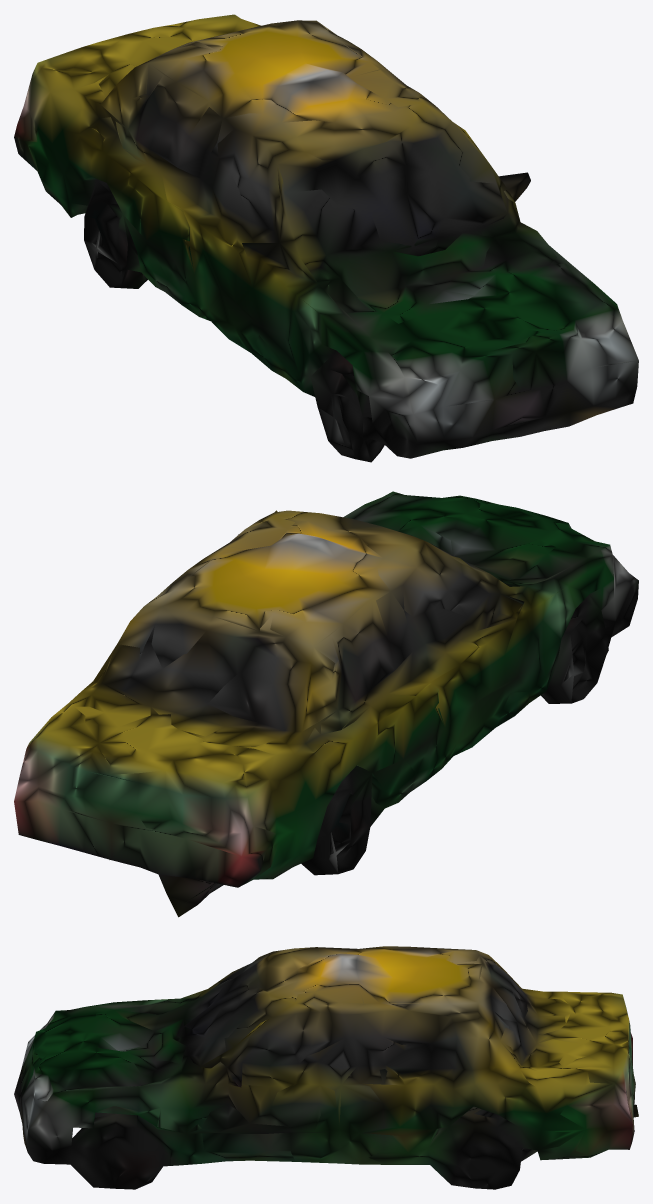
File: city_taxi.1.glb
The picture shows the model from 3 angles, top to bottom: view 1: azimuth 30°, elevation 25°; view 2: azimuth 150°, elevation 25°; view 3: azimuth 270°, elevation 25°; orthographic projection. The views are drawn at different scales.
Parts seen in each view (by area): view 1: lod; view 2: lod; view 3: lod.
Part boxes in pixels (bbox=[...]): lod: bbox=[14, 14, 638, 462]; lod: bbox=[14, 491, 638, 917]; lod: bbox=[14, 946, 638, 1189].
Size of the model in its own units: 0.4042 by 0.3246 by 0.9931.
